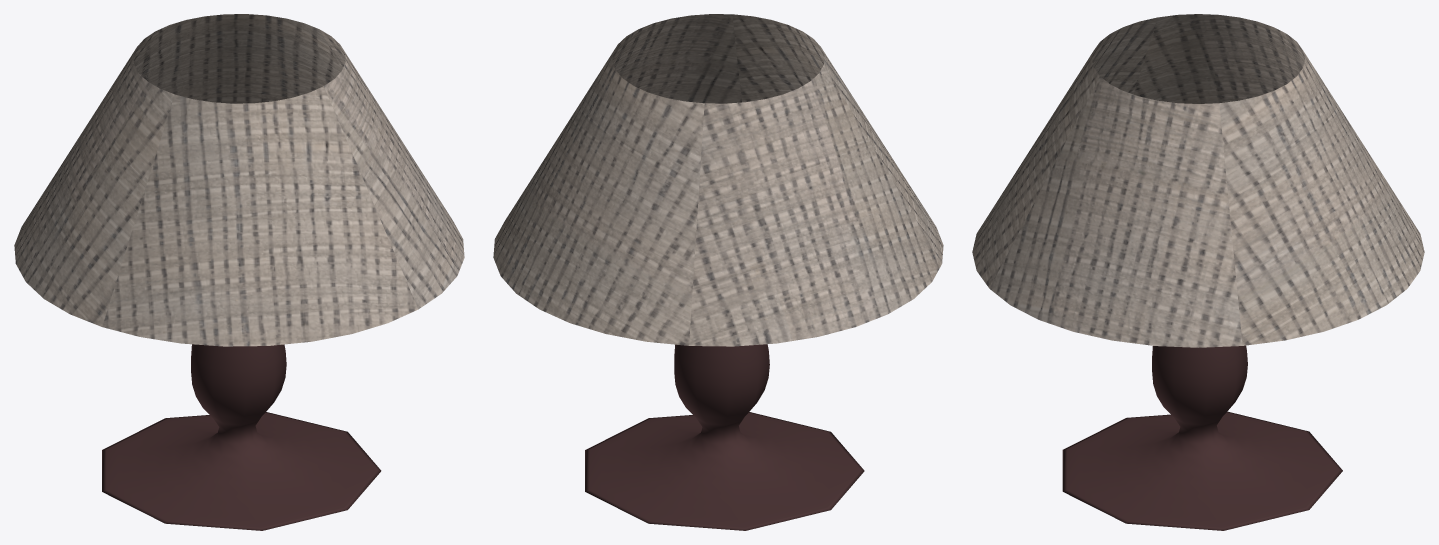
Rendered from lamp.fbx.
3 renders of one model, left to right at view 1: azimuth 30°, elevation 25°; view 2: azimuth 150°, elevation 25°; view 3: azimuth 270°, elevation 25°, orthographic.
Visible parts, largest first — view 1: Cylinder, BezierCurve; view 2: Cylinder, BezierCurve; view 3: Cylinder, BezierCurve.
Part boxes in pixels (bbox=[...]): Cylinder: bbox=[14, 14, 464, 346]; BezierCurve: bbox=[102, 344, 381, 530]; Cylinder: bbox=[493, 14, 943, 346]; BezierCurve: bbox=[585, 344, 864, 530]; Cylinder: bbox=[972, 14, 1424, 347]; BezierCurve: bbox=[1062, 345, 1342, 530].
Bounding box in the file's own units: 424 × 429 × 424.
